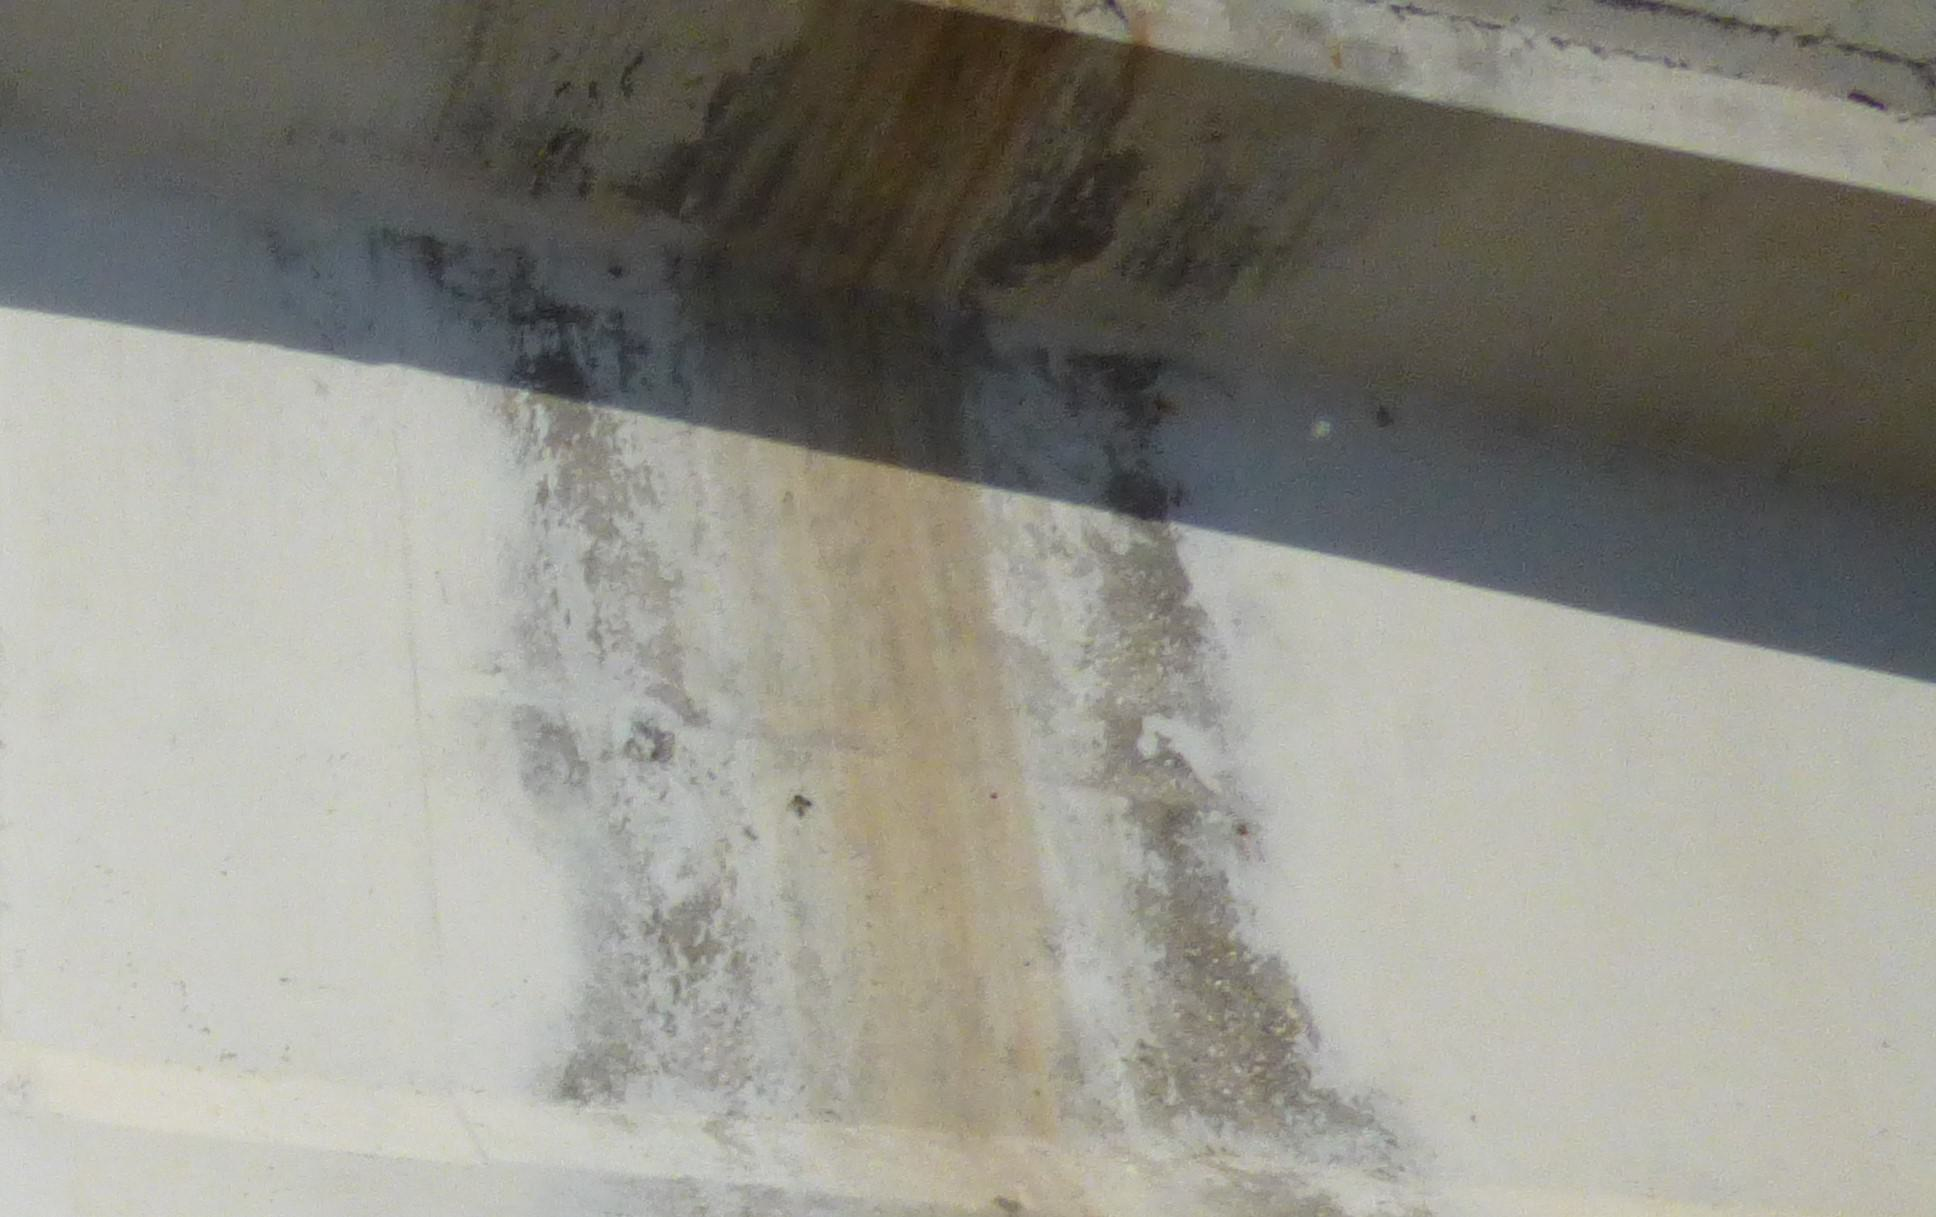Corrosion: (377, 226, 1429, 1217), (435, 1, 1302, 292)
